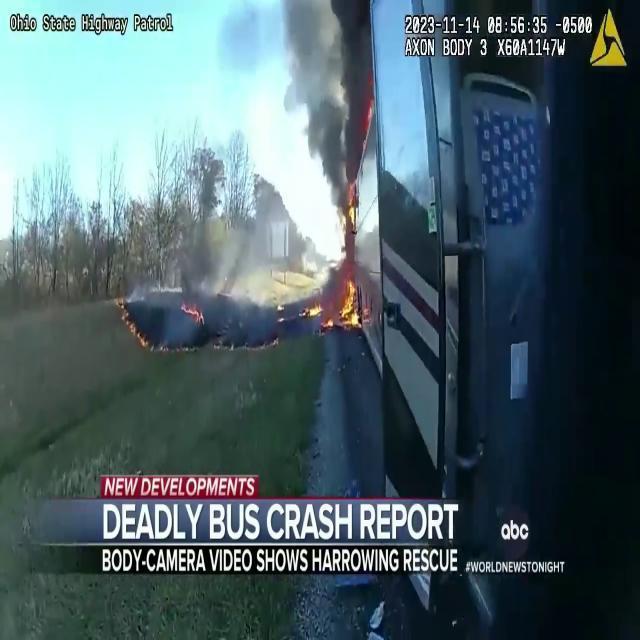Fire: (300, 274, 366, 327)
Smoke: (278, 0, 384, 193), (175, 198, 279, 318)
